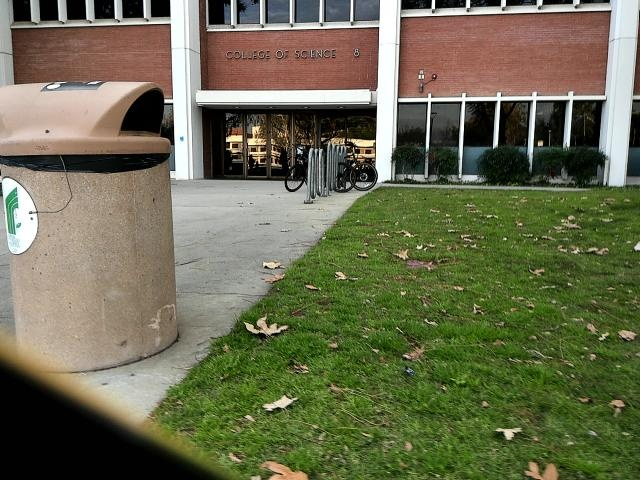trashcan: (2, 69, 185, 374)
